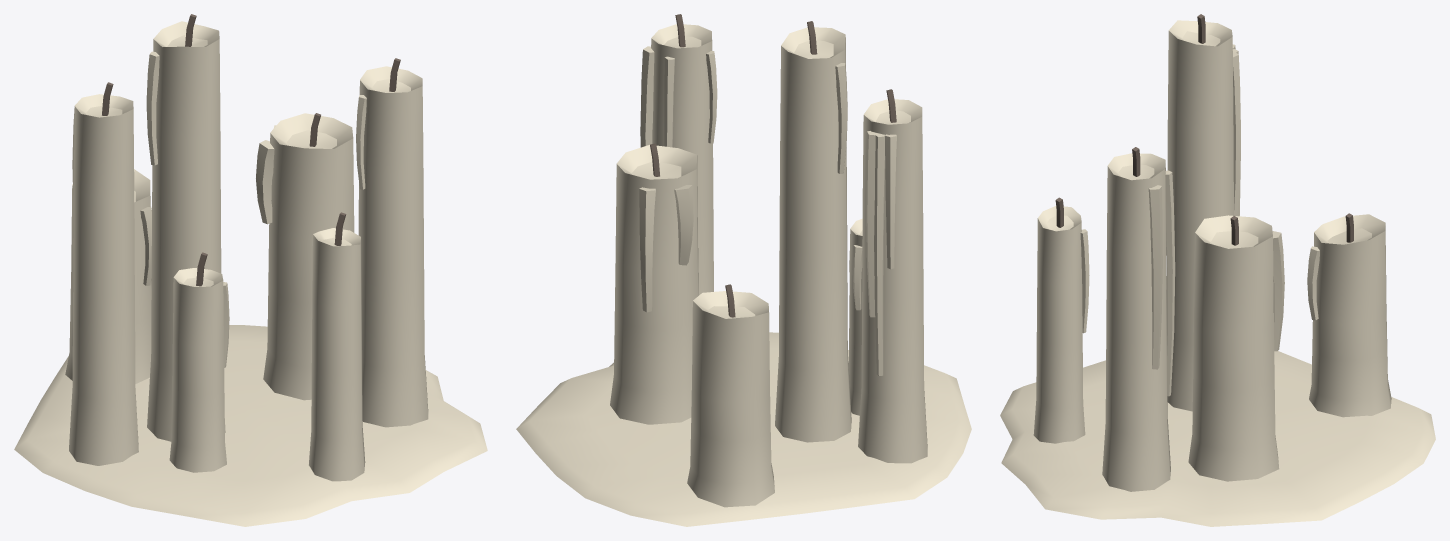
File: candle_cluster.glb
The picture shows the model from 3 angles, left to right: view 1: azimuth 30°, elevation 25°; view 2: azimuth 150°, elevation 25°; view 3: azimuth 270°, elevation 25°; orthographic projection. The views are drawn at different scales.
Parts seen in each view (by area): view 1: candle_cluster; view 2: candle_cluster; view 3: candle_cluster.
Boxes of the visible parts, left/top/right/bottom form: candle_cluster: left=14, top=14, right=487, bottom=526; candle_cluster: left=516, top=14, right=971, bottom=526; candle_cluster: left=1000, top=14, right=1435, bottom=526.
Bounding box in the file's own units: 0.4034 × 0.4162 × 0.4133.
